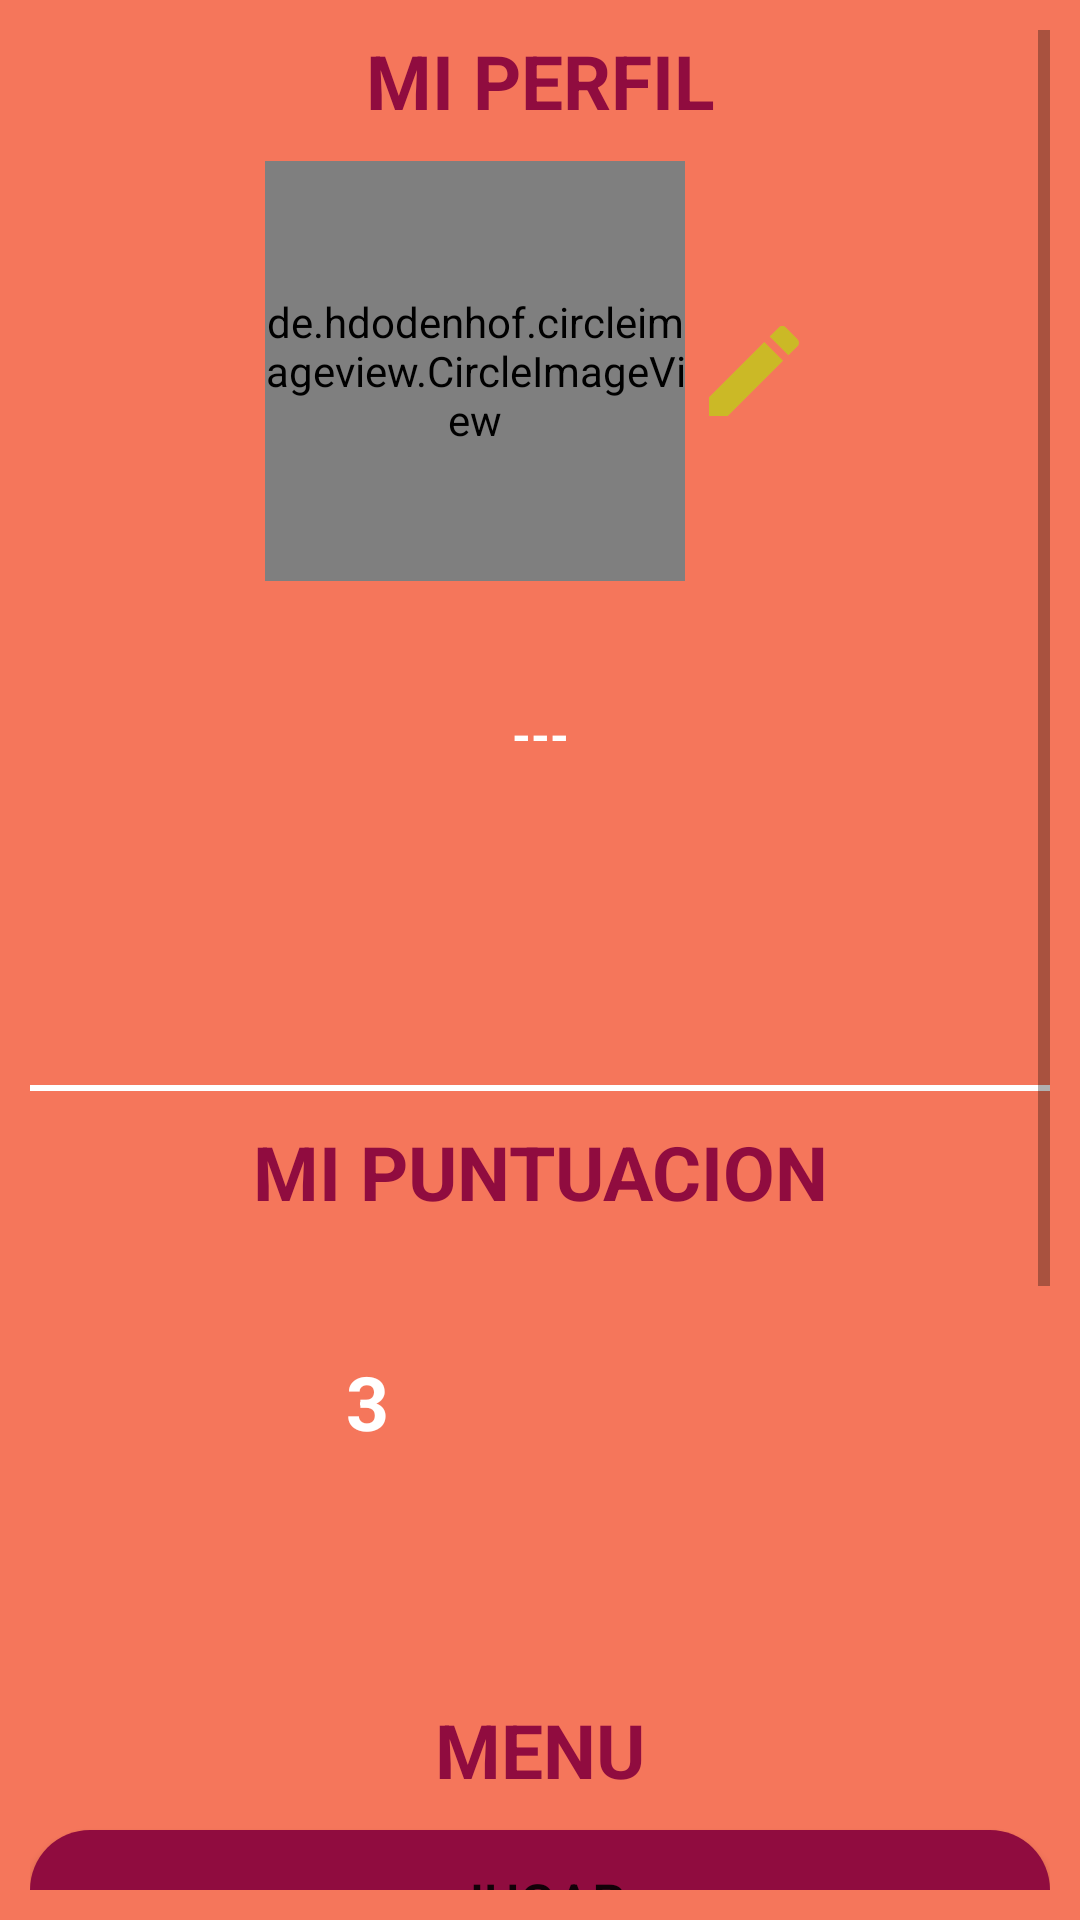

Where to tap for icons on this 1080w x 1920h app screen, as (x,y):
edit: (754,371)
